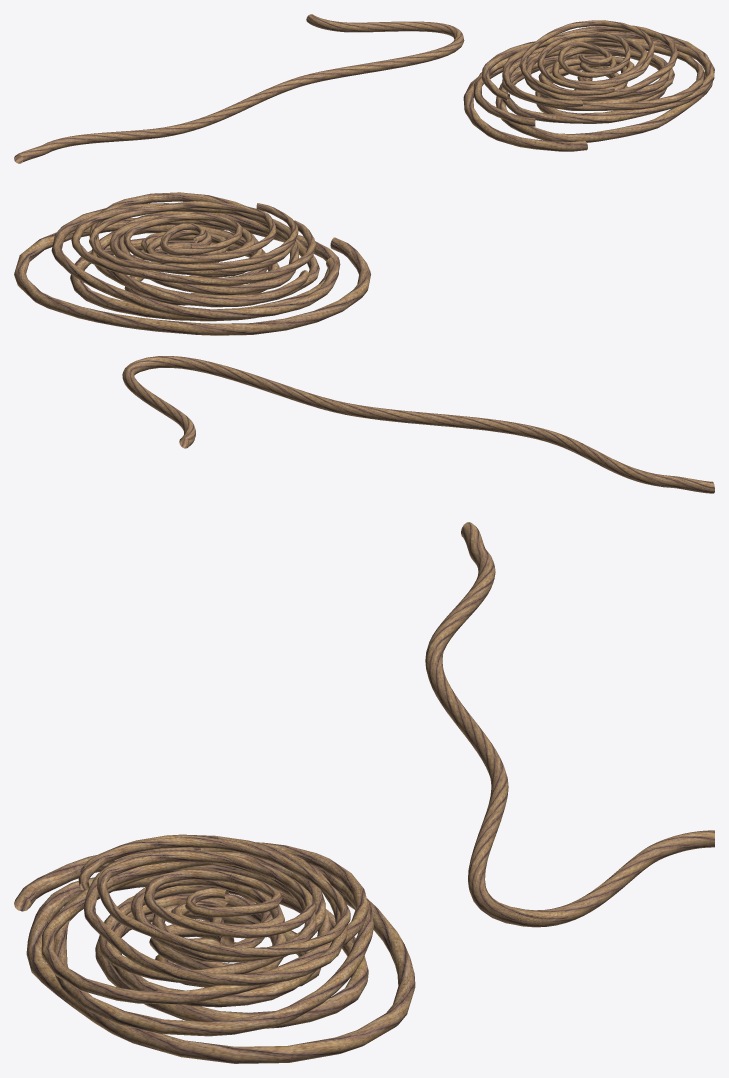
The model's file is RopeTX.fbx.
The picture shows the model from 3 angles, top to bottom: view 1: azimuth 30°, elevation 25°; view 2: azimuth 150°, elevation 25°; view 3: azimuth 270°, elevation 25°; orthographic projection. The views are drawn at different scales.
Visible parts, largest first — view 1: RopeS, Ropee; view 2: RopeS, Ropee; view 3: RopeS, Ropee.
Boxes of the visible parts, x1,y1,x2,y2 form: RopeS: (463,20,714,151); Ropee: (14,14,464,163); RopeS: (14,192,370,335); Ropee: (122,356,714,493); RopeS: (14,834,415,1063); Ropee: (425,522,714,927).
Size of the model in its own units: 4947 by 297 by 2758.
2 materials, 2 textured.
